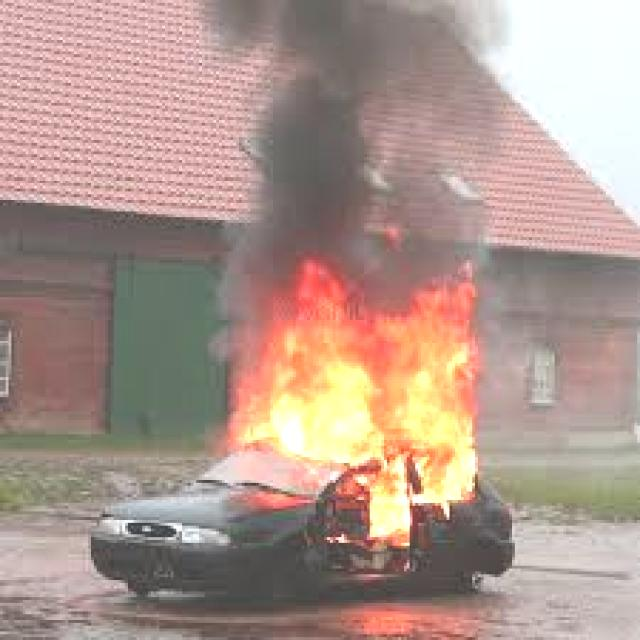fire: (225, 243, 515, 511)
